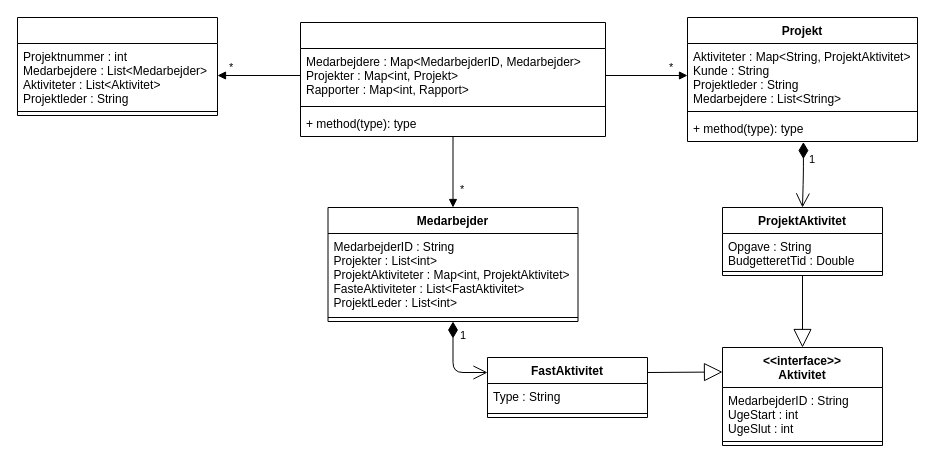
Some shapes in this 935 by 463 pixel diagram are drawn without their labels. Here are the shapes that lost their labels. From the top down, the box of each, then its label:
(16, 16, 218, 116): Rapport
(300, 22, 606, 136): Model
